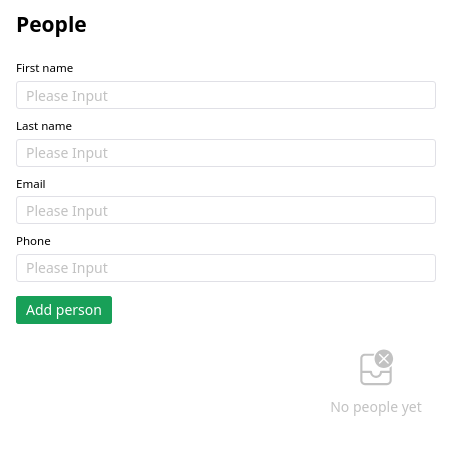
Scenario: PeoplePage › shows the server 400 validation message and does not add a row
The image size is (453, 461).
Click the button "Add person": point(64, 310) [16,296,112,324]
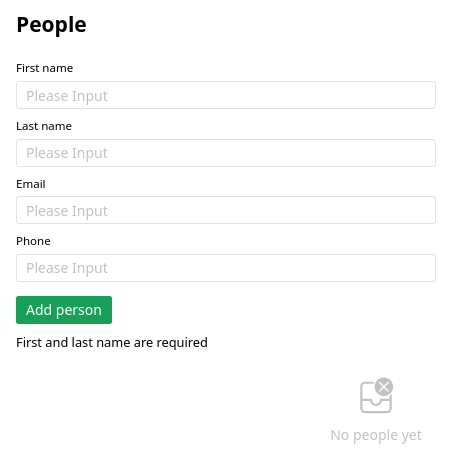
Result: the text "First and last name are required" is shown at [16,333,208,351]
